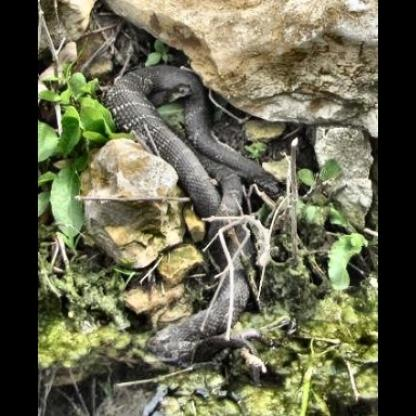Snake: (103, 62, 288, 364)
